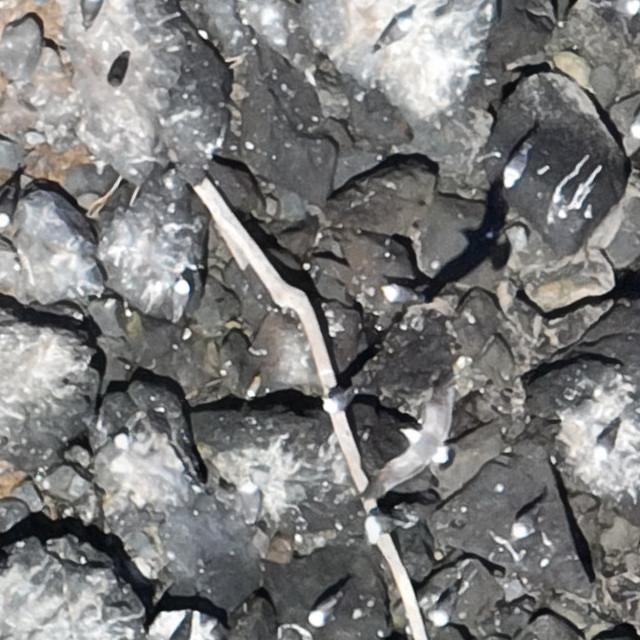F: (376, 380, 457, 491)
umineko: (507, 132, 536, 187), (312, 585, 345, 626), (93, 435, 127, 473), (322, 382, 362, 414), (429, 585, 460, 625), (513, 501, 543, 540), (366, 513, 400, 540), (383, 19, 411, 46), (242, 485, 259, 523), (386, 286, 417, 304), (595, 428, 614, 457), (172, 280, 188, 314), (0, 190, 14, 225), (83, 0, 101, 23)
